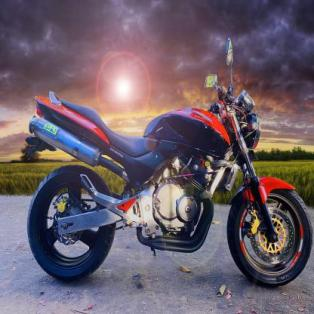Motocicleta: (19, 36, 314, 289)
